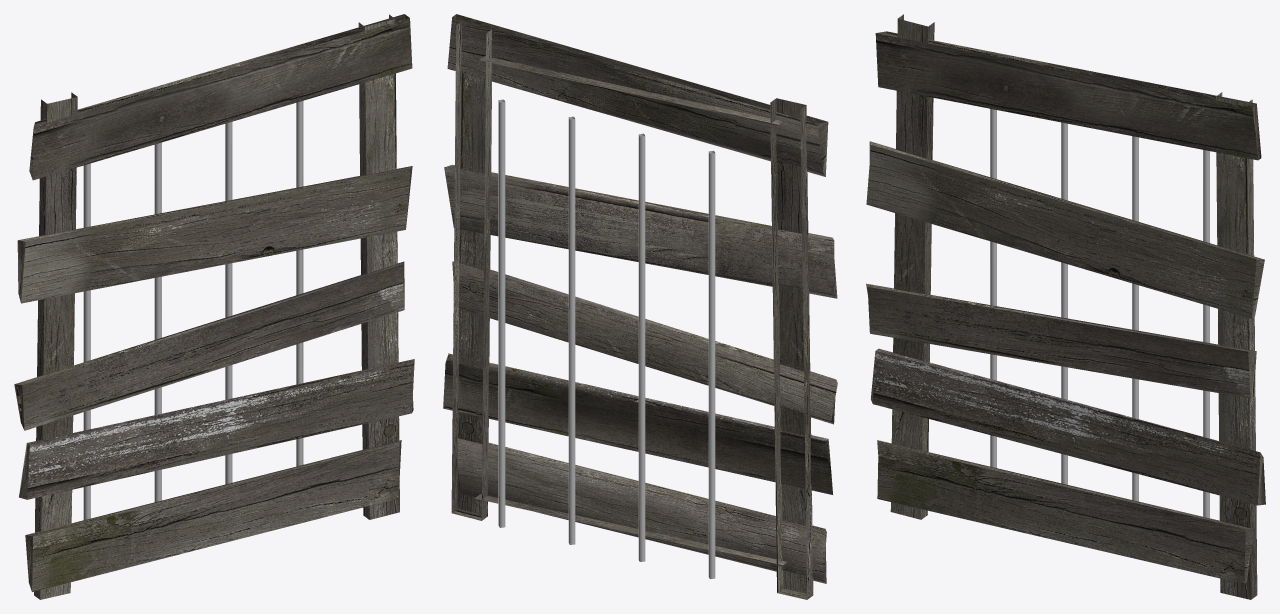
File: Boards_And_Bars1.fbx
3 renders of one model, left to right at view 1: azimuth 30°, elevation 25°; view 2: azimuth 150°, elevation 25°; view 3: azimuth 330°, elevation 25°, orthographic.
Parts seen in each view (by area): view 1: Boards_And_Bars; view 2: Boards_And_Bars; view 3: Boards_And_Bars.
Boxes of the visible parts, <box> form: Boards_And_Bars: <box>14,14,414,599</box>; Boards_And_Bars: <box>443,14,837,599</box>; Boards_And_Bars: <box>866,14,1265,599</box>.
Size of the model in its own units: 112 by 133 by 16.52.
